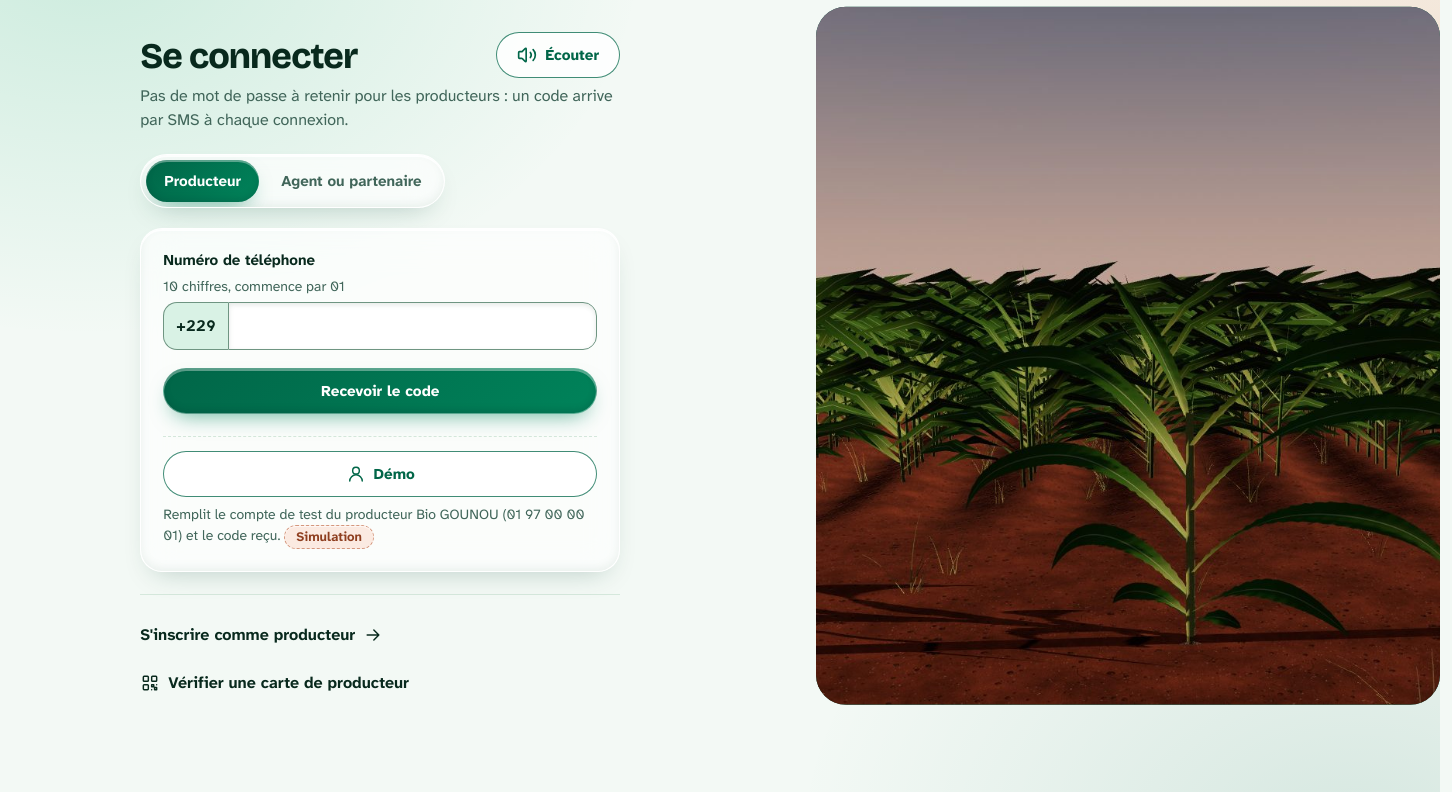
Connexion › demande le code, affiche le bandeau Simulation et le mot de passe si requis
Type "0197000002" into the field labelled "Numéro de téléphone" at coordinates (413, 326), box [228, 302, 597, 350]
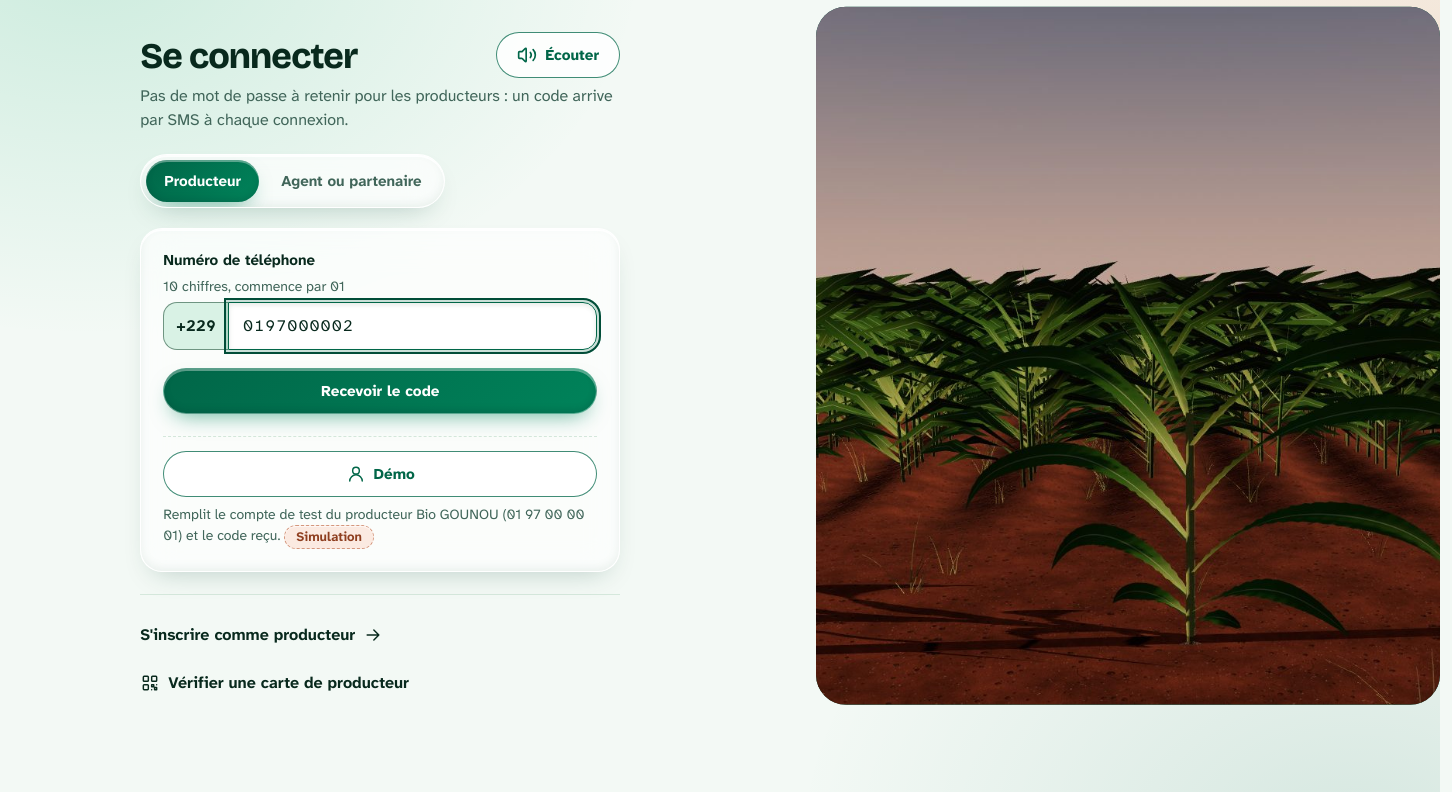
Click the button "Recevoir le code" at coordinates (380, 391), box [163, 368, 597, 414]
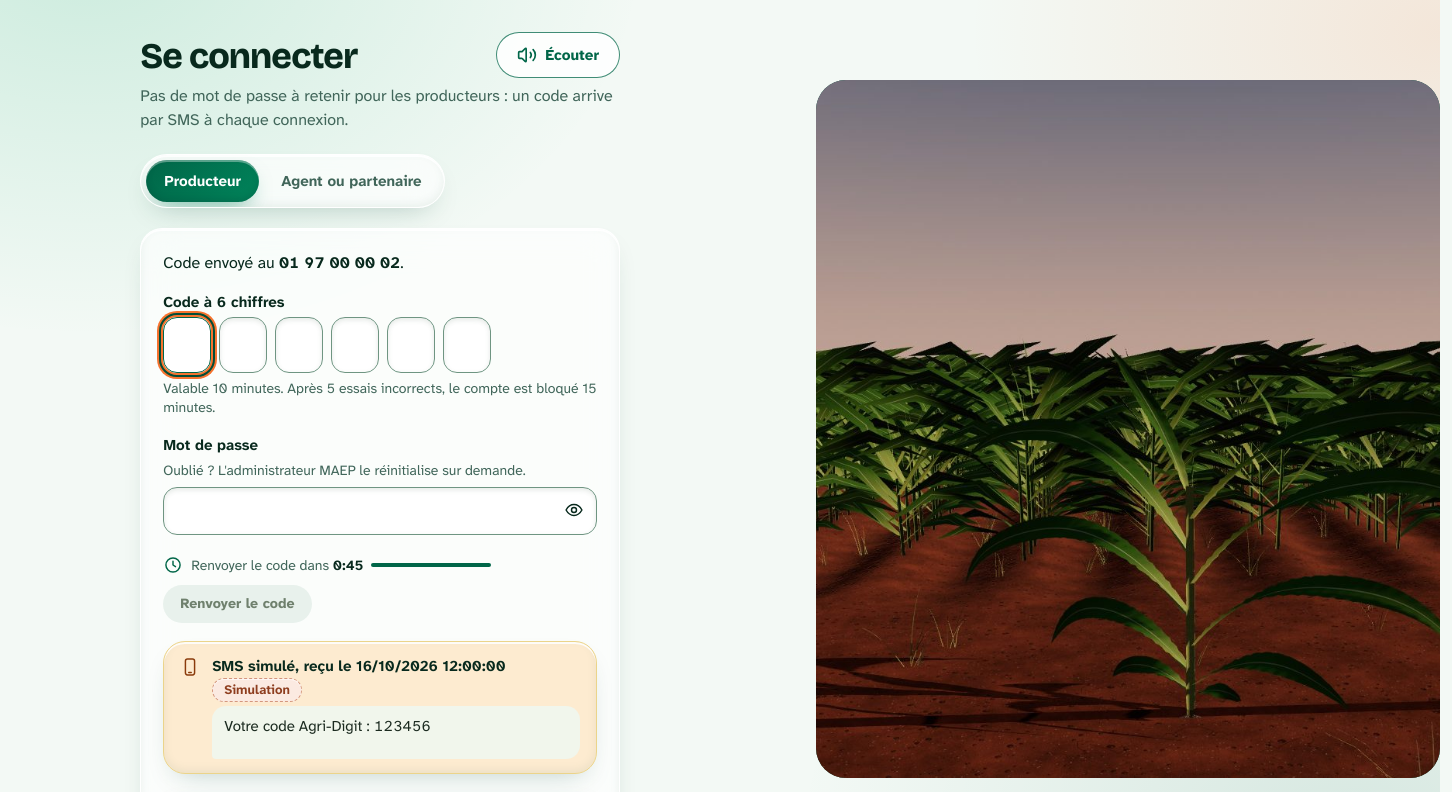
Result: the password field labelled "Mot de passe" is shown at [163, 487, 597, 535]
Result: the element named "Code à 6 chiffres" is shown at [163, 316, 491, 372]
Result: the text "Votre code Agri-Digit : 123456" is shown at [212, 706, 580, 758]
